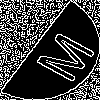M: (25, 25, 98, 85)
